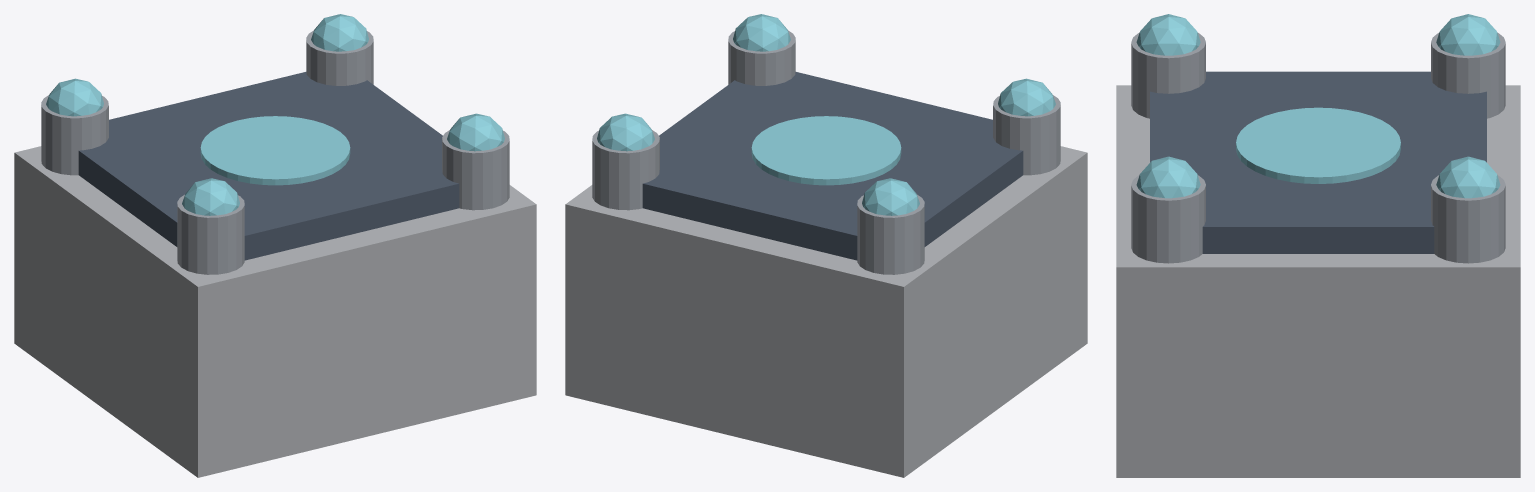
Rendered from expansor-extras-comum.glb.
The picture shows the model from 3 angles, left to right: view 1: azimuth 30°, elevation 25°; view 2: azimuth 150°, elevation 25°; view 3: azimuth 270°, elevation 25°; orthographic projection. The views are drawn at different scales.
Parts seen in each view (by area): view 1: part000, part001, part002, part005, part009, part003, part007, part008, part010, part004, part006; view 2: part000, part001, part002, part003, part007, part005, part009, part010, part008, part006, part004; view 3: part000, part001, part002, part007, part009, part003, part005, part008, part010, part004, part006.
Part boxes in pixels (x1=…): part000: x1=14, y1=146, x2=536, y2=477; part001: x1=78, y1=72, x2=459, y2=260; part002: x1=200, y1=116, x2=350, y2=185; part005: x1=177, y1=194, x2=244, y2=274; part009: x1=442, y1=130, x2=509, y2=210; part003: x1=41, y1=95, x2=108, y2=175; part007: x1=306, y1=30, x2=373, y2=85; part008: x1=311, y1=14, x2=368, y2=51; part010: x1=447, y1=113, x2=504, y2=151; part004: x1=46, y1=78, x2=103, y2=116; part006: x1=182, y1=178, x2=239, y2=215; part000: x1=565, y1=146, x2=1087, y2=477; part001: x1=642, y1=72, x2=1023, y2=260; part002: x1=751, y1=116, x2=901, y2=185; part003: x1=857, y1=194, x2=924, y2=274; part007: x1=592, y1=130, x2=659, y2=210; part005: x1=993, y1=95, x2=1060, y2=175; part009: x1=728, y1=30, x2=795, y2=85; part010: x1=733, y1=14, x2=790, y2=51; part008: x1=597, y1=113, x2=654, y2=151; part006: x1=998, y1=78, x2=1055, y2=116; part004: x1=862, y1=178, x2=919, y2=215; part000: x1=1116, y1=85, x2=1520, y2=477; part001: x1=1150, y1=71, x2=1486, y2=253; part002: x1=1236, y1=107, x2=1400, y2=183; part007: x1=1431, y1=175, x2=1505, y2=263; part009: x1=1131, y1=175, x2=1205, y2=263; part003: x1=1431, y1=32, x2=1505, y2=118; part005: x1=1131, y1=32, x2=1205, y2=118; part008: x1=1436, y1=156, x2=1500, y2=198; part010: x1=1136, y1=156, x2=1200, y2=198; part004: x1=1436, y1=14, x2=1500, y2=55; part006: x1=1136, y1=14, x2=1200, y2=55.
Size of the model in its own units: 1.15 by 0.88 by 1.08.
